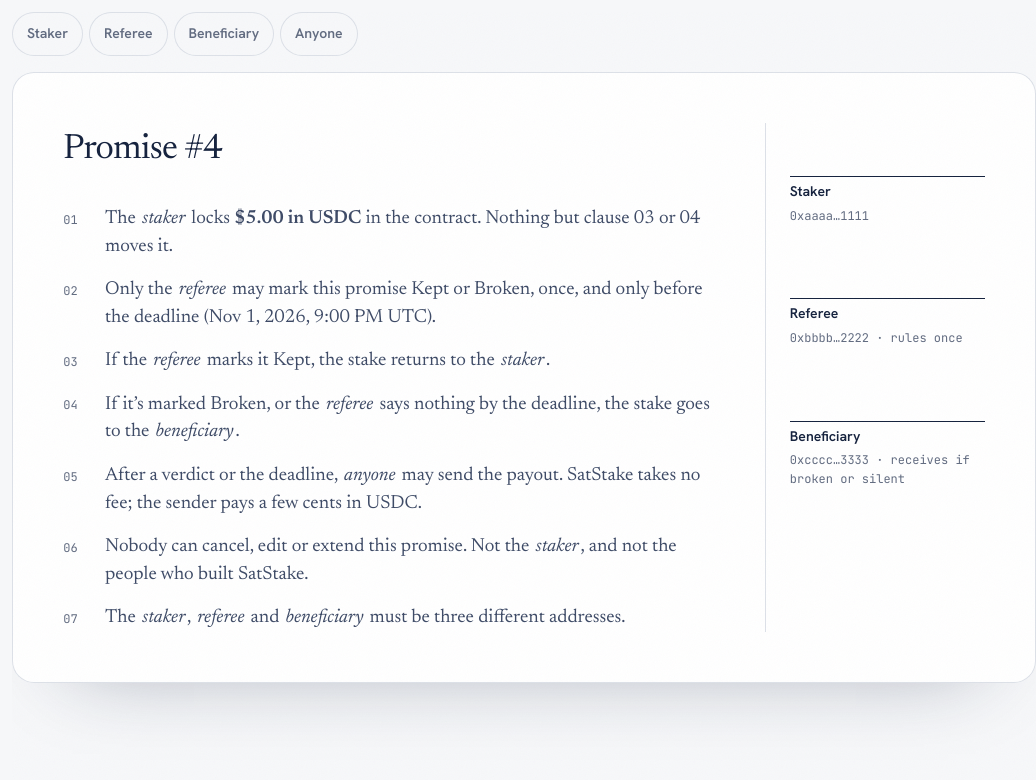
Test case: LLR-FE-040 Read as lights the lines that apply to a role › marks exactly the lines of referee as the ones that apply
The width and height of the screenshot is (1036, 780).
Step 1. Click the button "Referee" → coordinates (128, 34), box [89,12,168,56]
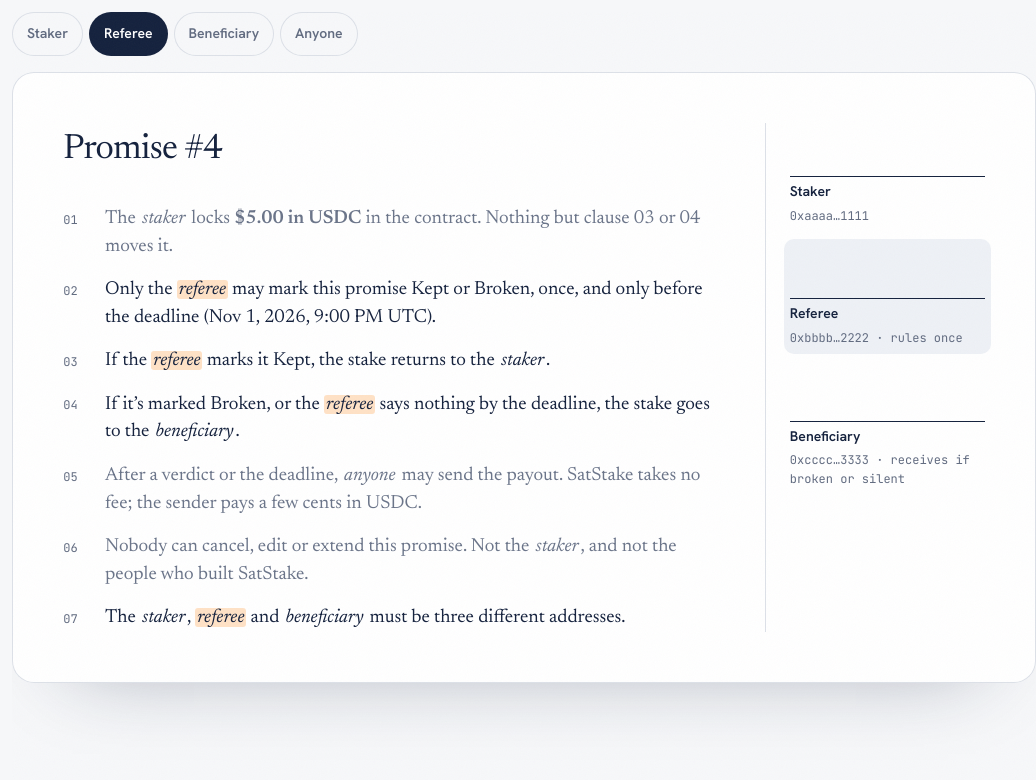
Now the element with class "focus" is shown
